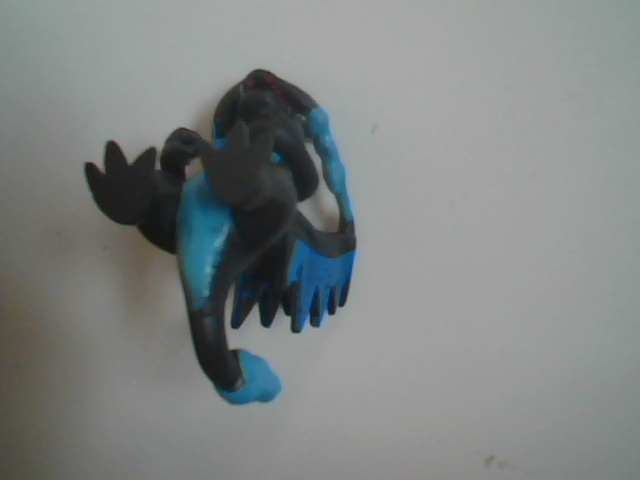charizard: (67, 55, 440, 423)
